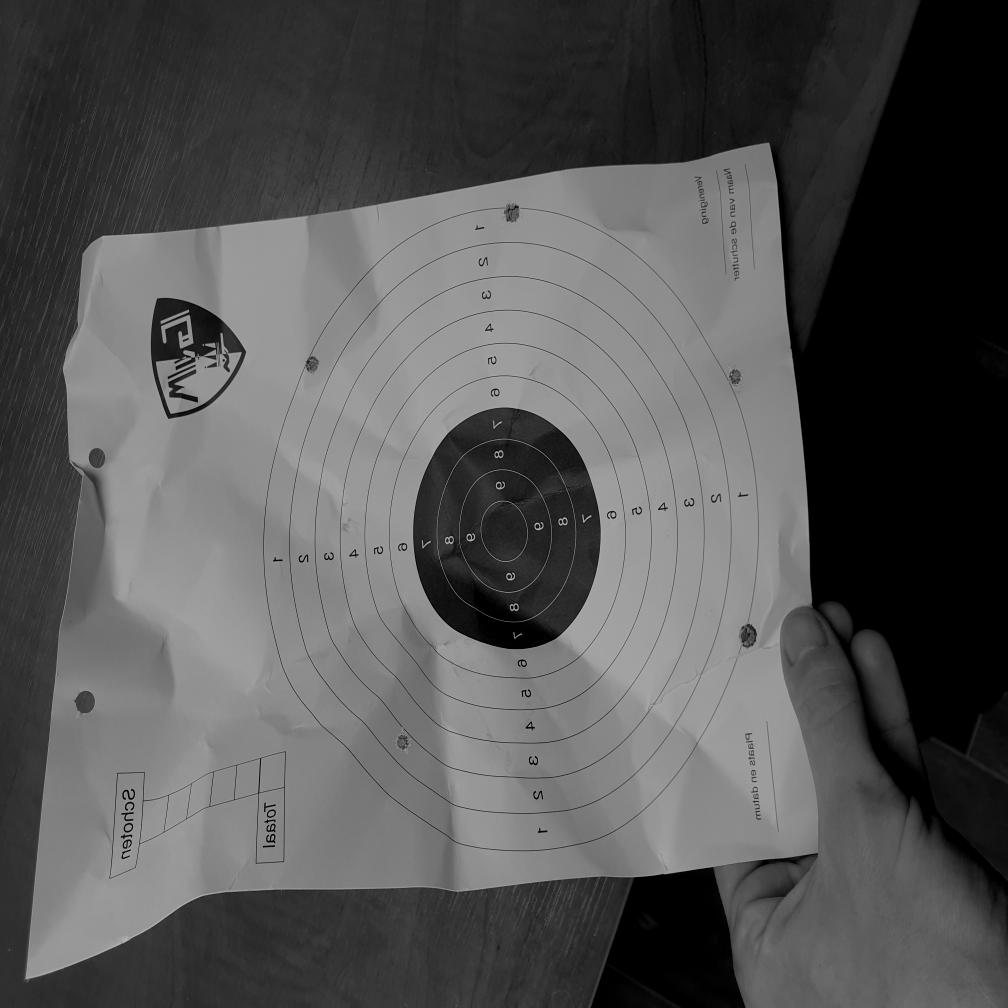1: (737, 621, 759, 650), (502, 201, 523, 224), (727, 366, 742, 388), (305, 354, 319, 375)
2: (394, 727, 411, 756)
Target: (262, 207, 761, 856)
black_contour: (412, 408, 600, 649)
